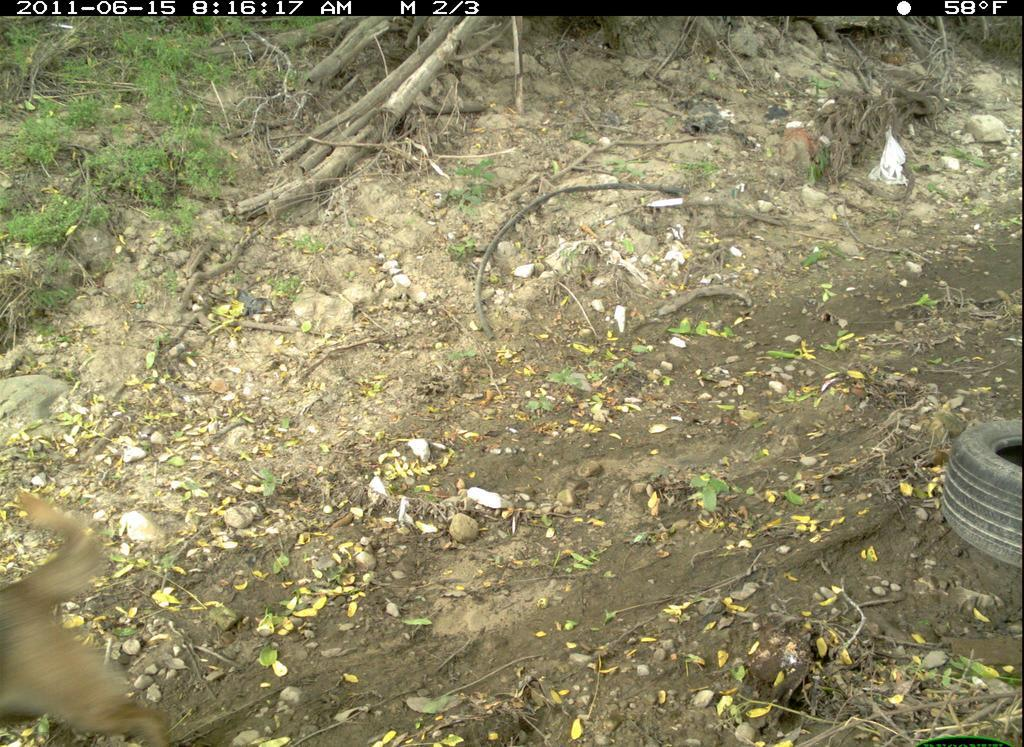dog: (2, 477, 193, 747)
